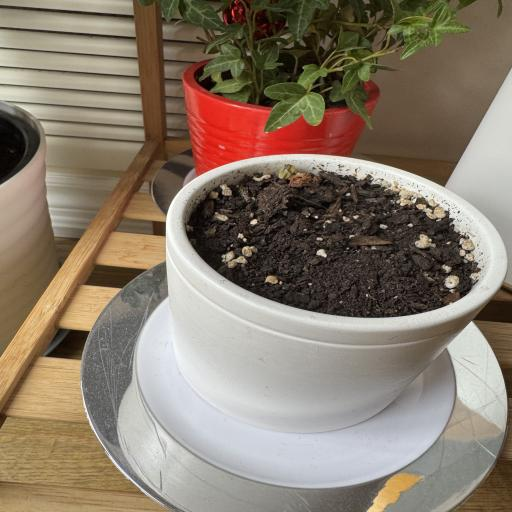Plant Pot: (153, 154, 507, 429), (178, 53, 376, 159), (0, 95, 62, 322)
